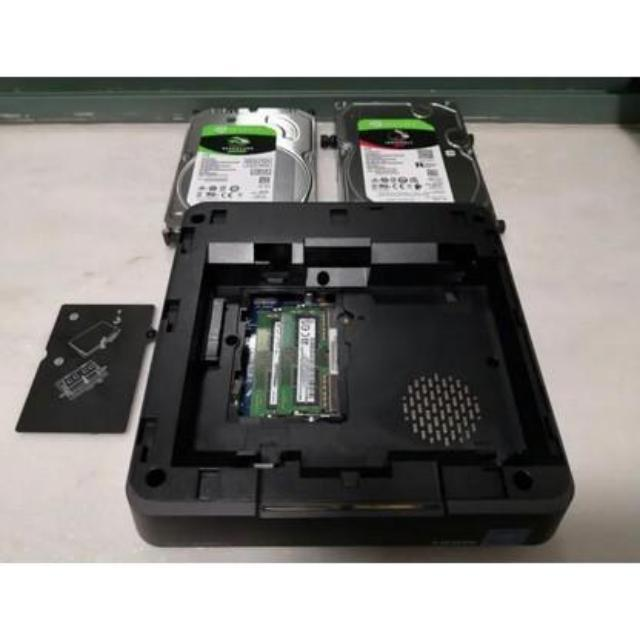DISK: (332, 90, 494, 216), (158, 96, 318, 218)
